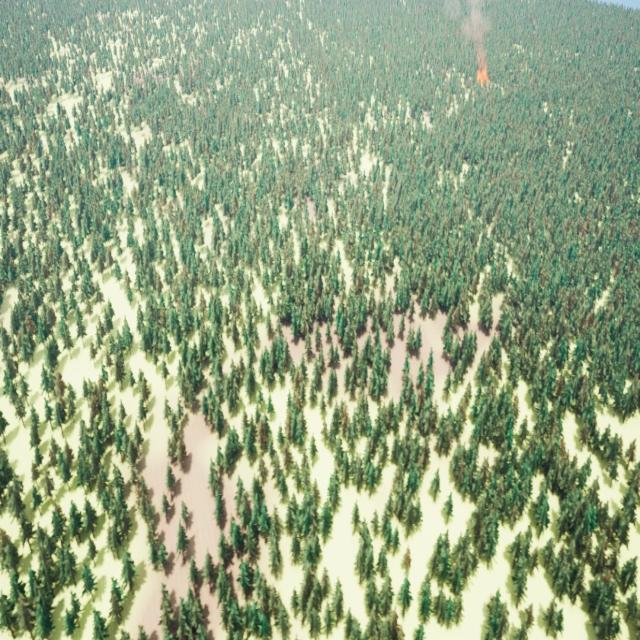fire: (477, 65, 488, 84)
smoke: (452, 0, 492, 70)
